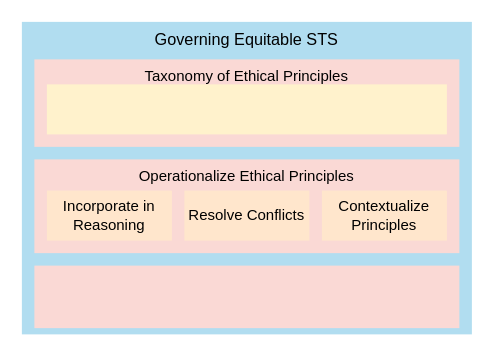
Image size: 493x355. Some labels were removed from this diagram. Here are the shapes that lost their labels. From the top down, the centre of each, then its label:
At [246,109]: "Identify Gaps".
At [246,296]: "Create Consistent Responses to Social Dilemmas".
